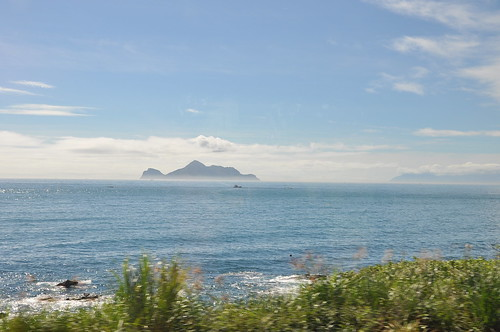turtleIslandLeft: (139, 160, 260, 181)
